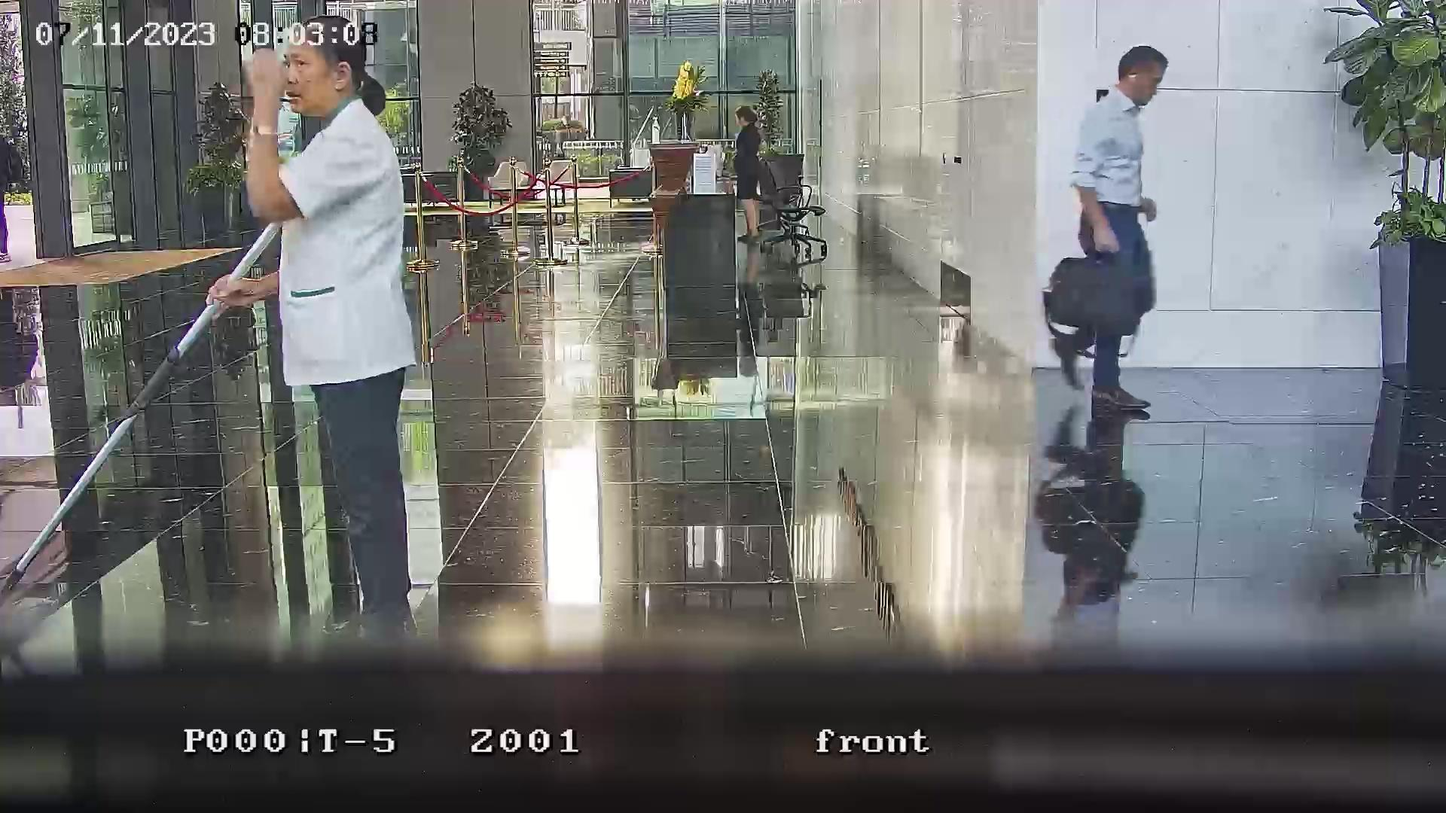person: (210, 11, 418, 638), (1047, 46, 1168, 413), (733, 105, 770, 242), (0, 132, 12, 263)
